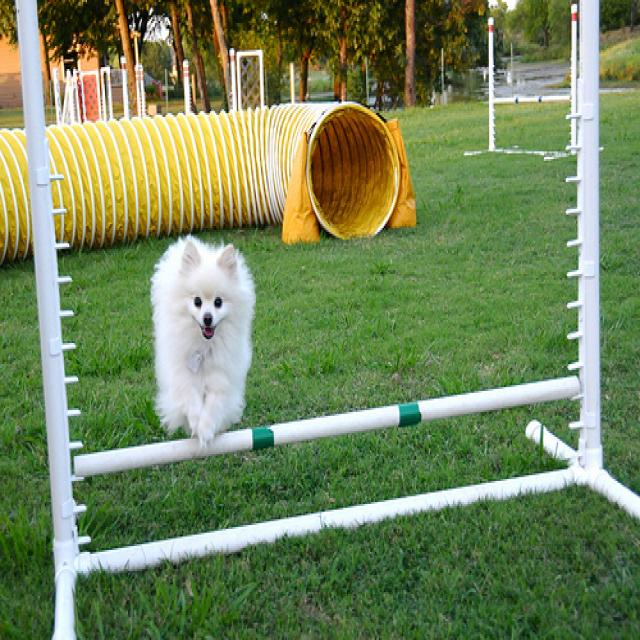dog-pomeranian: (147, 222, 260, 452)
